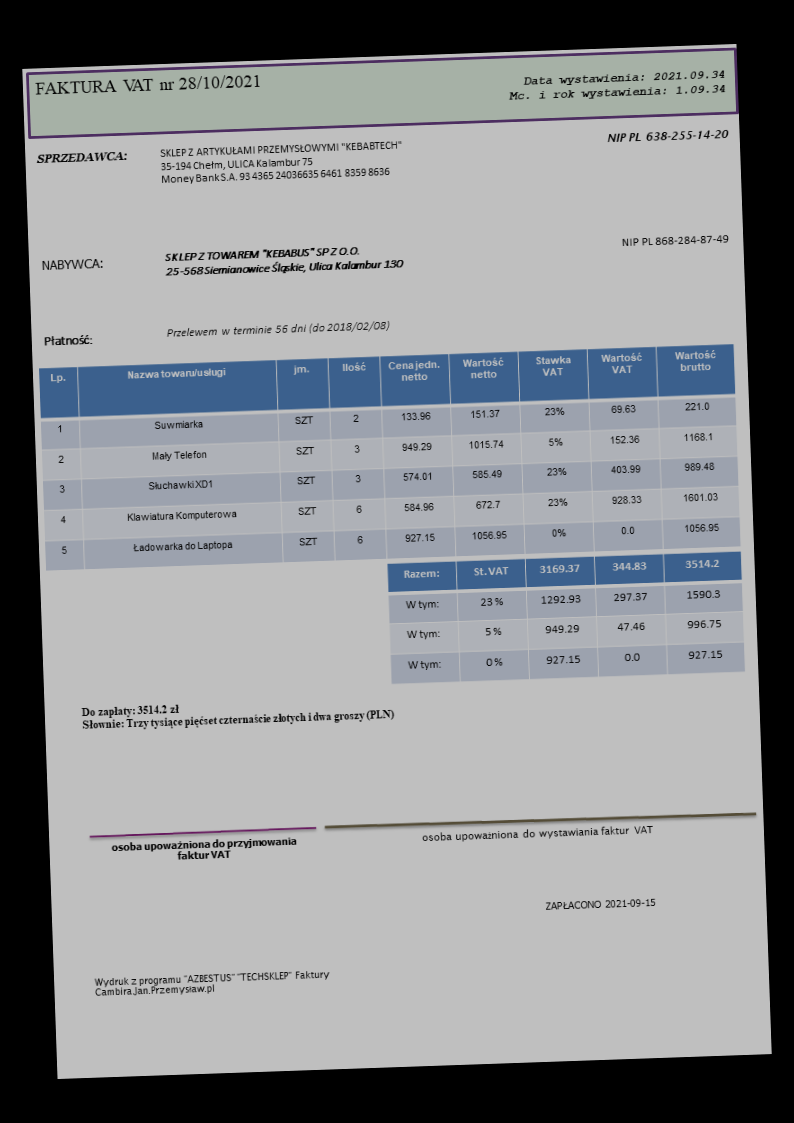Table: (37, 342, 742, 572), (385, 550, 747, 686)
TextBox: (79, 694, 395, 733), (156, 138, 405, 187), (162, 243, 405, 279), (505, 67, 727, 104), (92, 967, 332, 999), (33, 71, 263, 98), (109, 833, 300, 865), (419, 821, 654, 845), (165, 317, 391, 341), (604, 126, 730, 146), (542, 895, 656, 913), (620, 232, 730, 249), (34, 149, 129, 166), (39, 256, 104, 273), (41, 332, 95, 348)
